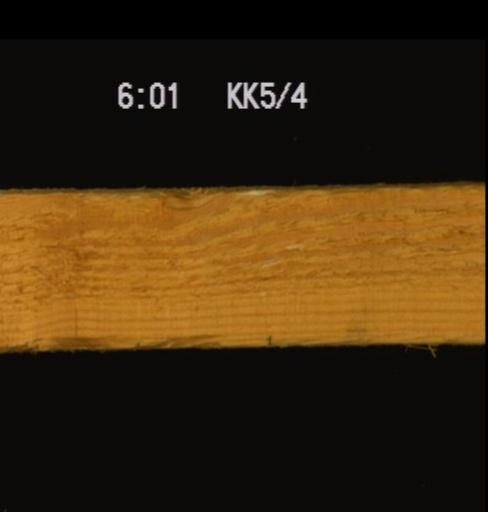edge_knot: (143, 186, 222, 214)
wave: (23, 316, 222, 347), (275, 326, 483, 345)
